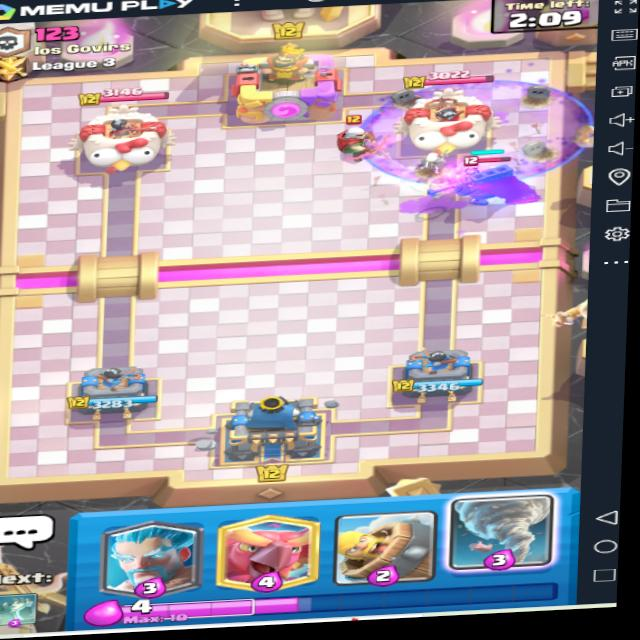magic-archer: (339, 120, 388, 161)
skeleton-king: (434, 152, 541, 214)
